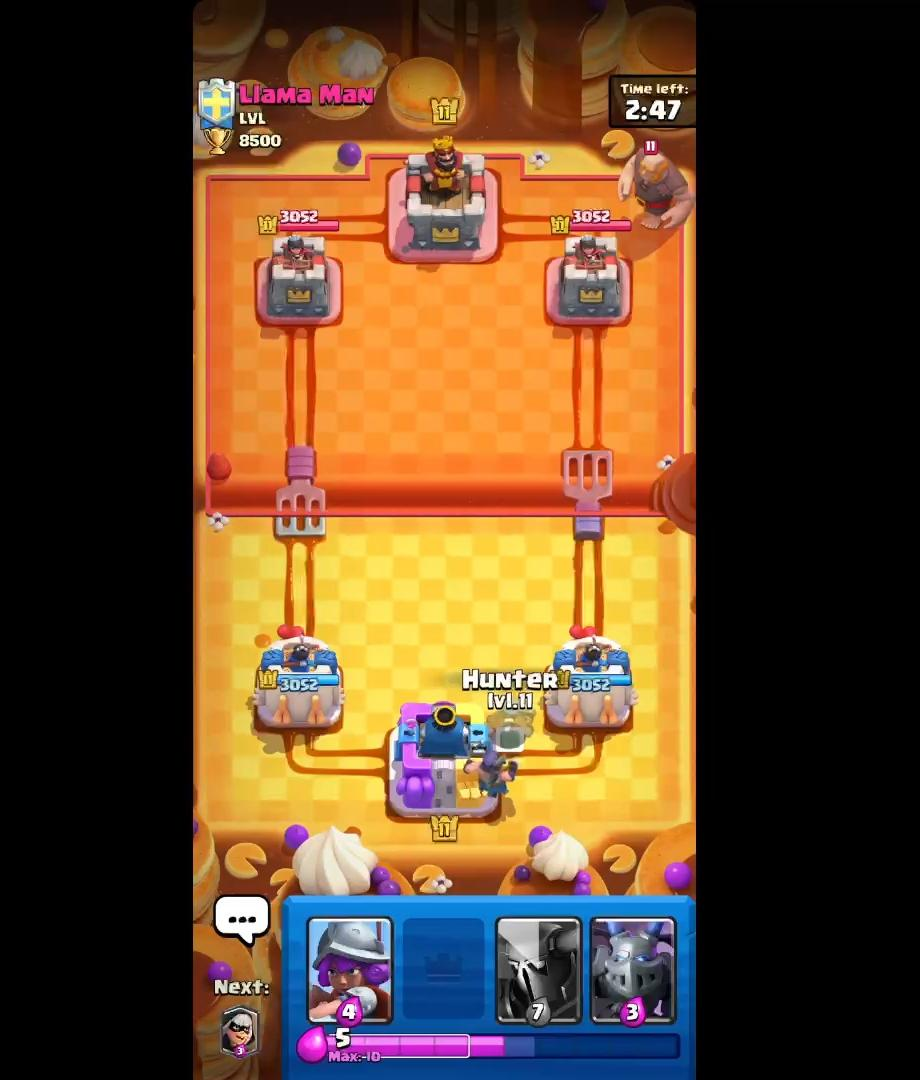Giant: (617, 133, 693, 248)
